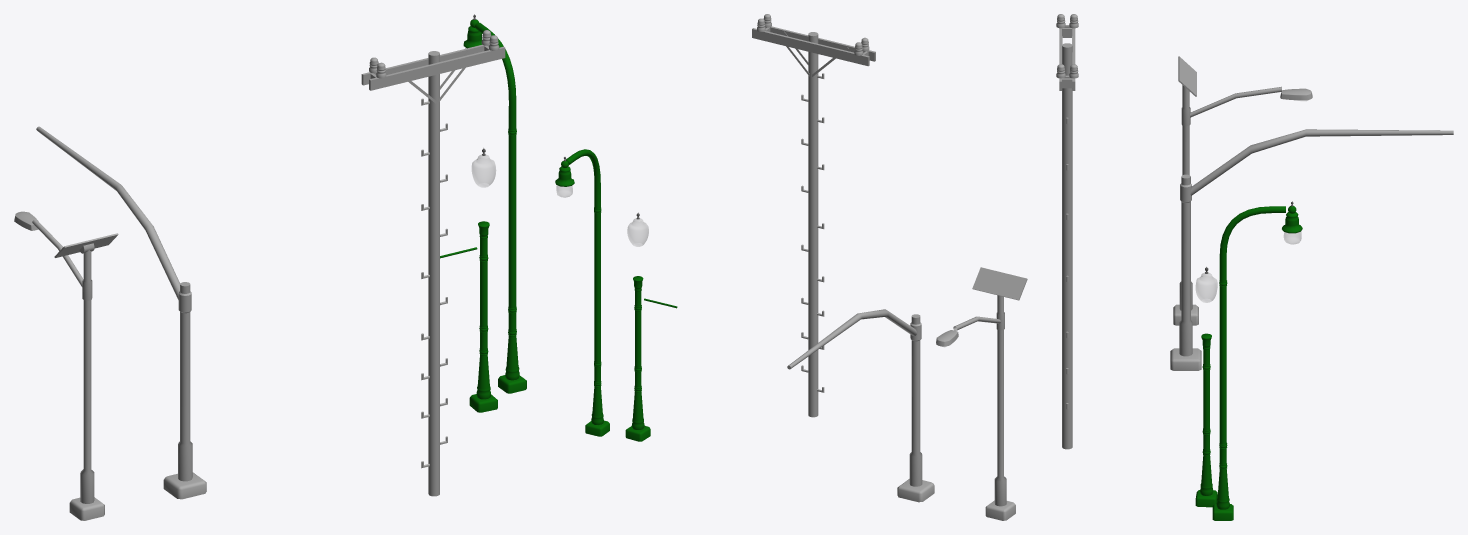
Rendered from Lamposts.fbx.
3 renders of one model, left to right at view 1: azimuth 30°, elevation 25°; view 2: azimuth 150°, elevation 25°; view 3: azimuth 270°, elevation 25°, orthographic. The views are drawn at different scales.
Parts seen in each view (by area): view 1: pCylinder33, TrafficLightPole3, StreetLampStraightLong1, StreetLightPole1, polySurface29, TrafficLightBase3, polySurface28, StreetLightBase1; view 2: pCylinder33, TrafficLightPole3, StreetLampStraightLong1, StreetLightPole1, polySurface29, polySurface25, TrafficLightBase3; view 3: pCylinder33, TrafficLightPole3, StreetLampStraightLong1, polySurface29, StreetLightPole1, TrafficLightBase3, polySurface28, polySurface25.
Part boxes in pixels (x1=…): pCylinder33: x1=361, y1=30, x2=505, y2=496; TrafficLightPole3: x1=36, y1=126, x2=192, y2=481; StreetLampStraightLong1: x1=475, y1=22, x2=526, y2=393; StreetLightPole1: x1=32, y1=219, x2=94, y2=503; polySurface29: x1=469, y1=221, x2=497, y2=412; TrafficLightBase3: x1=163, y1=472, x2=206, y2=499; polySurface28: x1=471, y1=148, x2=496, y2=187; StreetLightBase1: x1=69, y1=497, x2=104, y2=520; pCylinder33: x1=752, y1=14, x2=875, y2=417; TrafficLightPole3: x1=787, y1=309, x2=922, y2=486; StreetLampStraightLong1: x1=566, y1=149, x2=609, y2=436; StreetLightPole1: x1=953, y1=295, x2=1006, y2=506; polySurface29: x1=625, y1=276, x2=650, y2=441; polySurface25: x1=972, y1=267, x2=1027, y2=300; TrafficLightBase3: x1=897, y1=479, x2=934, y2=502; pCylinder33: x1=1056, y1=14, x2=1078, y2=449; TrafficLightPole3: x1=1179, y1=129, x2=1453, y2=356; StreetLampStraightLong1: x1=1212, y1=206, x2=1285, y2=520; polySurface29: x1=1195, y1=333, x2=1217, y2=507; StreetLightPole1: x1=1179, y1=85, x2=1281, y2=310; TrafficLightBase3: x1=1170, y1=348, x2=1201, y2=370; polySurface28: x1=1195, y1=267, x2=1217, y2=302; polySurface25: x1=1178, y1=56, x2=1196, y2=96.
Bounding box in the file's own units: 36.4 × 32.21 × 28.48.
